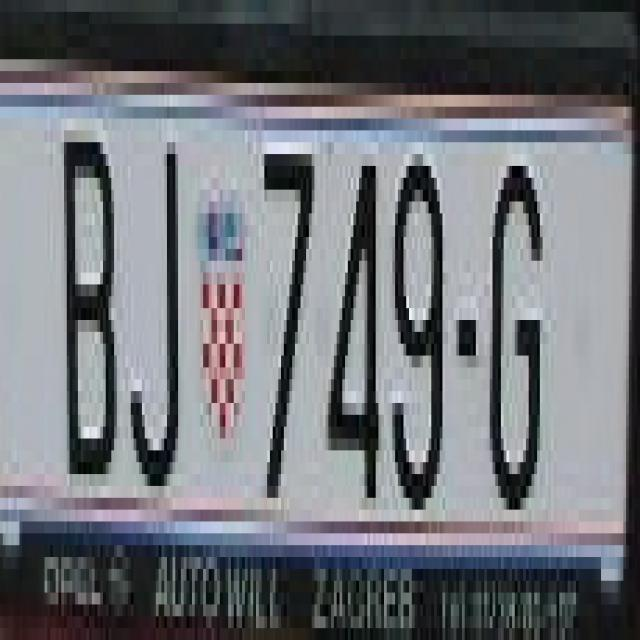4: (326, 154, 384, 510)
7: (256, 130, 314, 498)
9: (387, 154, 442, 510)
B: (59, 107, 114, 474)
G: (484, 154, 546, 522)
